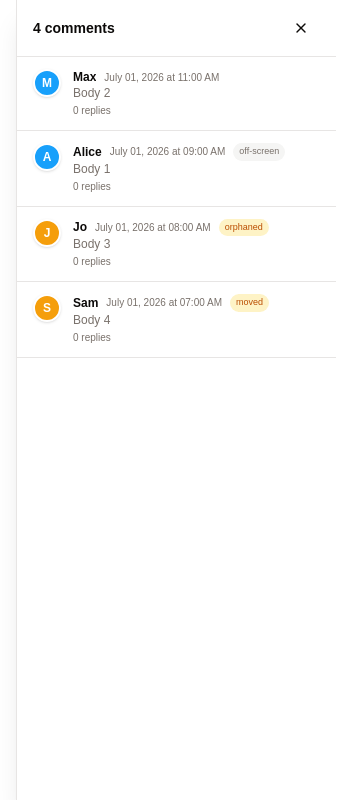
Test: CommentsDrawer › marque « hors écran » un pin hidden et affiche une note au clic (sans ouvrir le fil)
Expected: the text "off-screen" is shown, x1=233 y1=143 x2=285 y2=160
Click the button with test id "offscreen-badge" at point(168, 152), box x1=17 y1=131 x2=336 y2=206
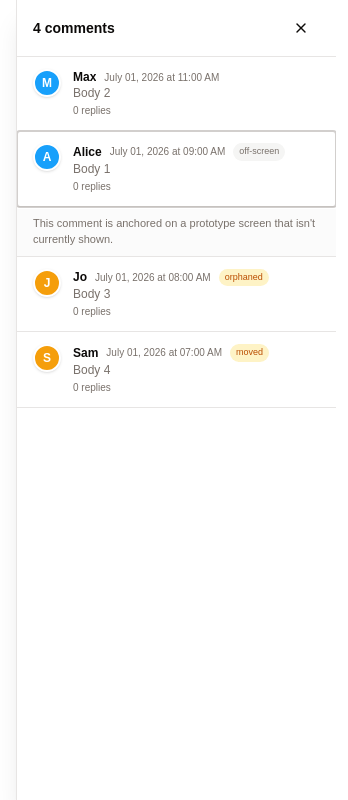
Result: the text with test id "offscreen-notice" is shown at x1=17 y1=206 x2=336 y2=256
